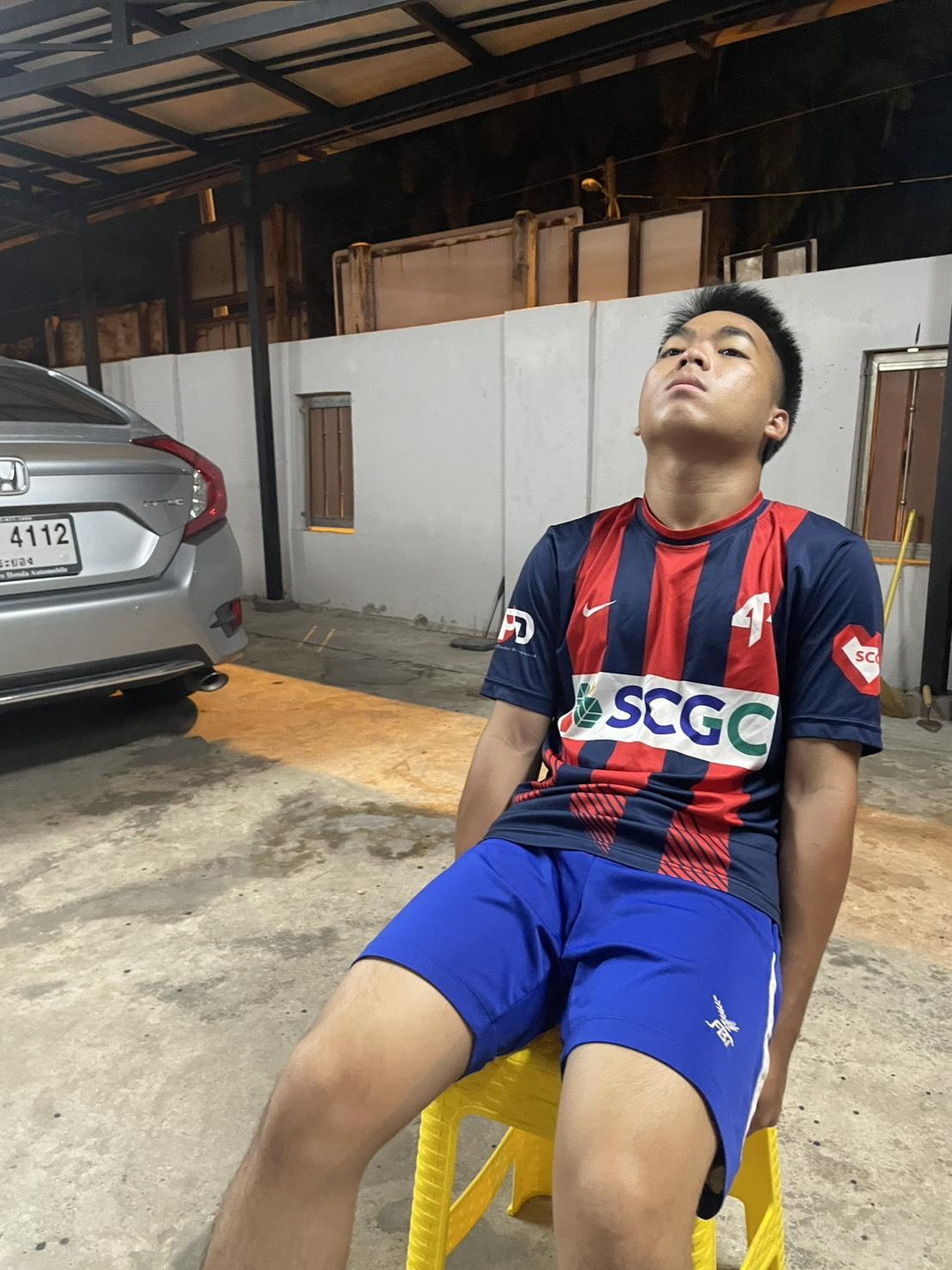BadPosture: (459, 285, 882, 916)
